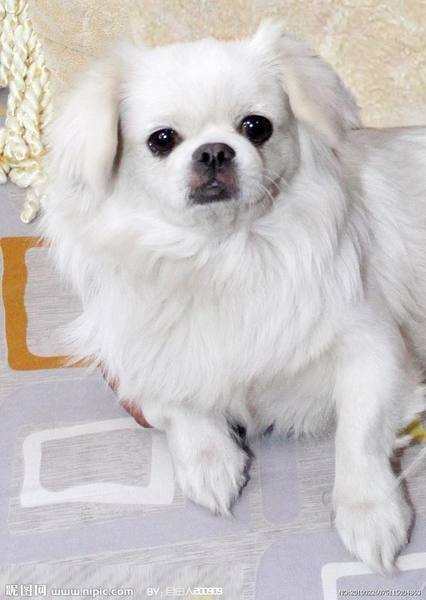dog: (54, 16, 382, 243)
